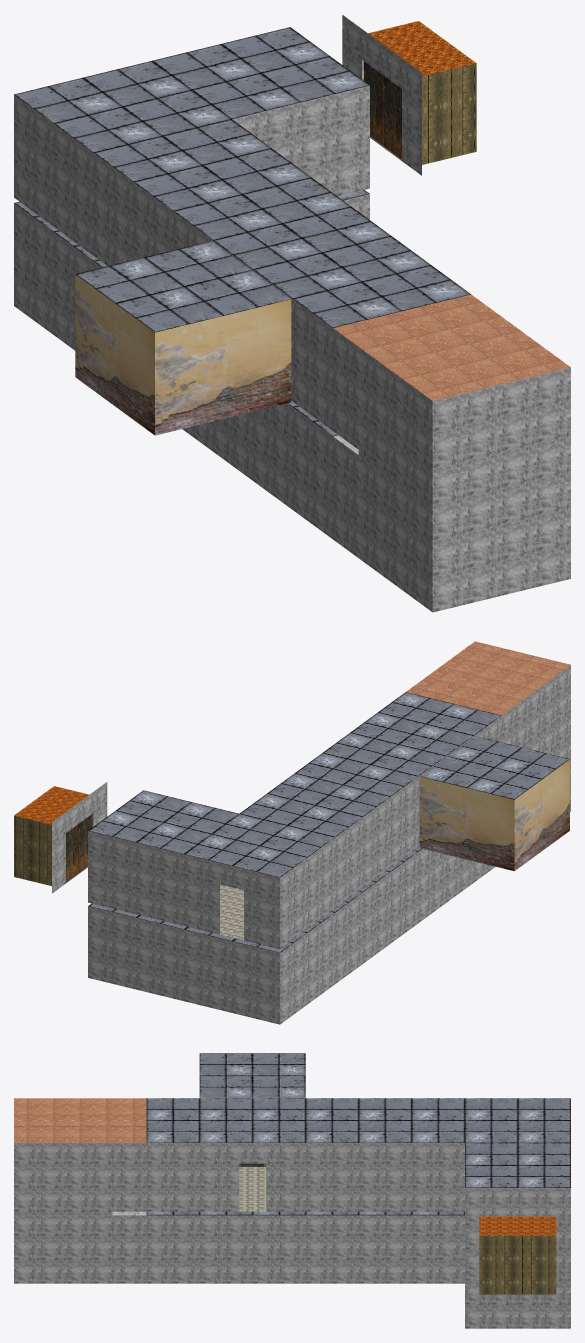
The model's file is LabirintEditor.fbx.
3 renders of one model, top to bottom at view 1: azimuth 30°, elevation 25°; view 2: azimuth 150°, elevation 25°; view 3: azimuth 270°, elevation 25°, orthographic. The views are drawn at different scales.
Parts seen in each view (by area): view 1: Wals.6, Up, Wals, Wals.5, Up.3, Up.7, Up.6, Wals.4, Wals.3, Wals.2, Lift, DpWal3 (+3 smaller); view 2: Up, Wals.3, Wals, Wals.5, Up.3, DopWall2.2, Up.7, DopWall2, Up.6, Wals.4, Wals.6, Wals.2 (+7 smaller); view 3: Wals.6, Wals.4, Up, Wals.2, Up.3, Wals, Wals.3, Up.7, Up.6, Lift, DpWal.2, DpWal3 (+5 smaller).
Part boxes in pixels (bbox=[...]): Wals.6: bbox=[333, 328, 570, 612]; Up: bbox=[14, 27, 369, 211]; Wals: bbox=[14, 85, 369, 265]; Wals.5: bbox=[75, 274, 291, 435]; Up.3: bbox=[174, 177, 470, 327]; Up.7: bbox=[333, 294, 570, 400]; Up.6: bbox=[75, 241, 290, 332]; Wals.4: bbox=[182, 403, 332, 538]; Wals.3: bbox=[14, 194, 369, 350]; Wals.2: bbox=[173, 212, 332, 430]; Lift: bbox=[422, 63, 476, 164]; DpWal3: bbox=[342, 15, 421, 175]; Up: bbox=[88, 773, 390, 877]; Wals.3: bbox=[88, 872, 390, 1024]; Wals: bbox=[88, 797, 390, 948]; Wals.5: bbox=[419, 759, 569, 871]; Up.3: bbox=[295, 692, 501, 796]; DopWall2.2: bbox=[184, 929, 279, 1024]; Up.7: bbox=[406, 641, 570, 715]; DopWall2: bbox=[184, 854, 279, 949]; Up.6: bbox=[420, 736, 569, 799]; Wals.4: bbox=[391, 849, 495, 942]; Wals.6: bbox=[501, 665, 570, 811]; Wals.2: bbox=[391, 716, 501, 867]; Wals.6: bbox=[14, 1143, 146, 1283]; Wals.4: bbox=[146, 1215, 358, 1283]; Up: bbox=[358, 1098, 570, 1187]; Wals.2: bbox=[146, 1143, 358, 1211]; Up.3: bbox=[146, 1098, 358, 1142]; Wals: bbox=[358, 1143, 464, 1211]; Wals.3: bbox=[358, 1215, 464, 1283]; Up.7: bbox=[14, 1098, 146, 1142]; Up.6: bbox=[199, 1053, 305, 1097]; Lift: bbox=[479, 1235, 556, 1294]; DpWal.2: bbox=[465, 1273, 570, 1328]; DpWal3: bbox=[465, 1204, 570, 1273].
Size of the model in its own units: 1540 by 585 by 2100.
12 materials, 12 textured.
